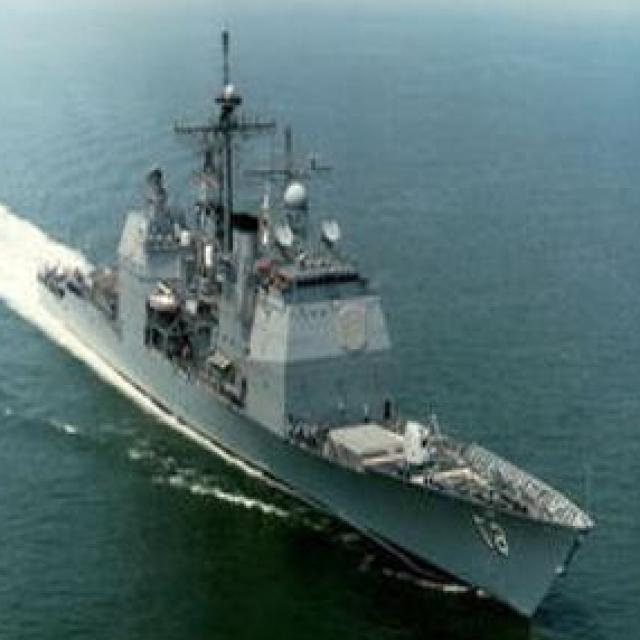navalvessels: (39, 62, 610, 619)
